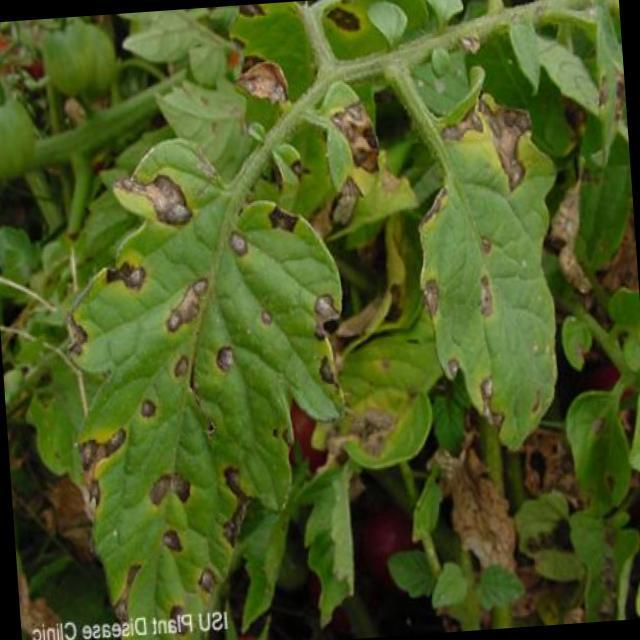Septoria: (92, 170, 343, 428), (82, 419, 264, 627), (417, 218, 558, 430)
